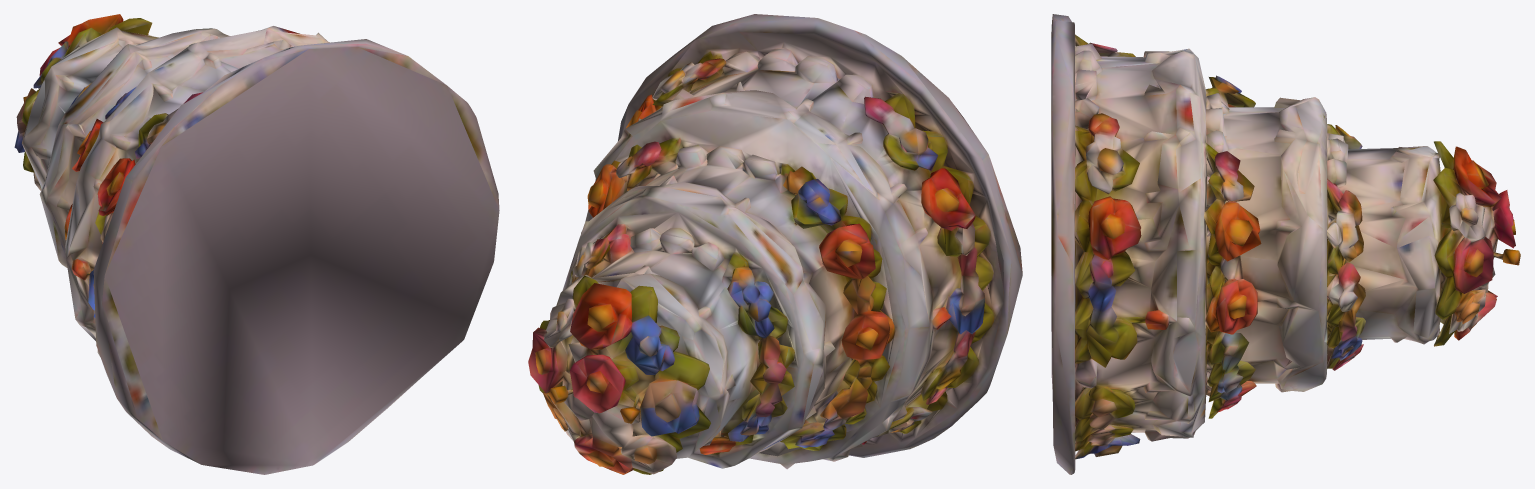
3 views of the same model, side by side, from view 1: azimuth 30°, elevation 25°; view 2: azimuth 150°, elevation 25°; view 3: azimuth 270°, elevation 25° (orthographic).
Visible parts, largest first — view 1: material; view 2: material; view 3: material.
Part boxes in pixels (x1,y1,x2,y2): material: [14, 14, 499, 474]; material: [528, 14, 1022, 474]; material: [1051, 14, 1520, 474].
Bounding box in the file's own units: 0.9752 × 0.9912 × 1.
Materials: 1 (1 with a texture image).
